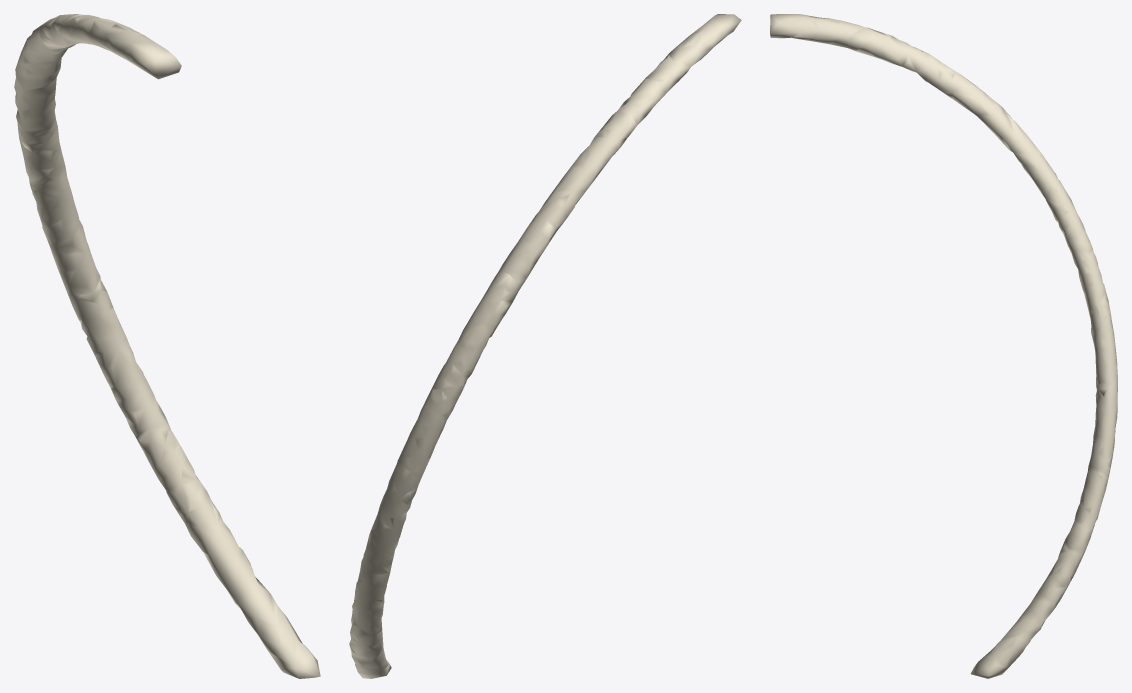
The model's file is rib_10_r.glb.
The picture shows the model from 3 angles, left to right: view 1: azimuth 30°, elevation 25°; view 2: azimuth 150°, elevation 25°; view 3: azimuth 270°, elevation 25°; orthographic projection. The views are drawn at different scales.
Parts seen in each view (by area): view 1: geometry_0; view 2: geometry_0; view 3: geometry_0.
Boxes of the visible parts, <box> form: geometry_0: <box>14,14,320,678</box>; geometry_0: <box>349,14,741,678</box>; geometry_0: <box>770,14,1117,678</box>.
Bounding box in the file's own units: 0.3133 × 0.7274 × 0.412.
